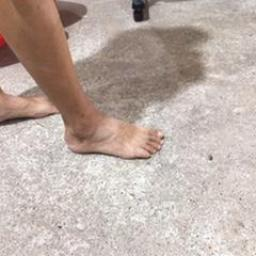Lateral View -Right Foot-: (48, 98, 173, 174)
